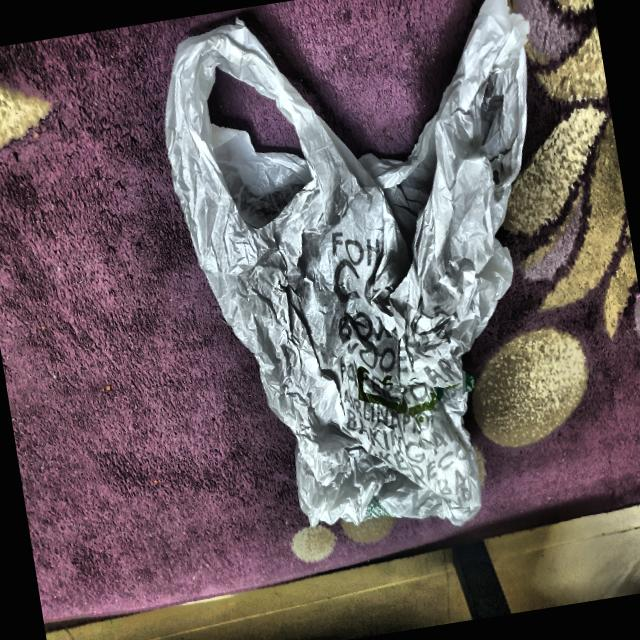plastic bag: (138, 0, 616, 572)
